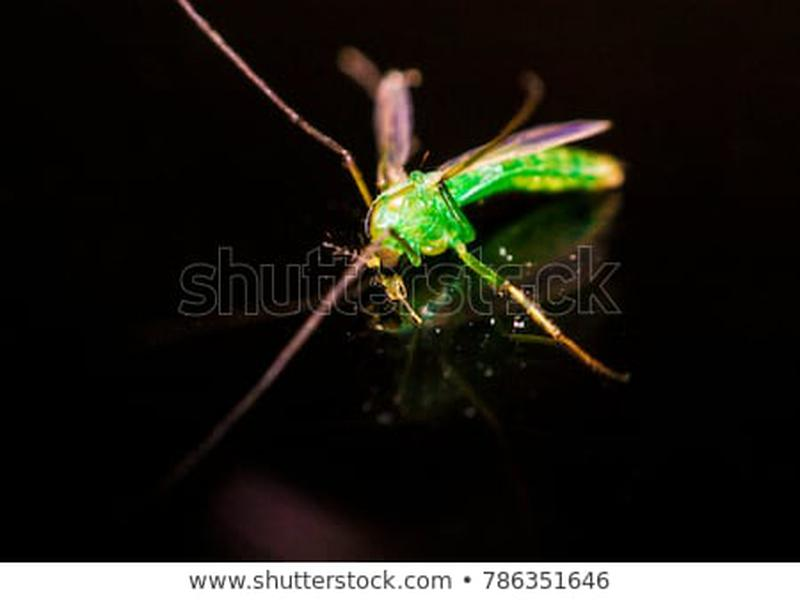Gall_midge: (338, 106, 642, 303)
